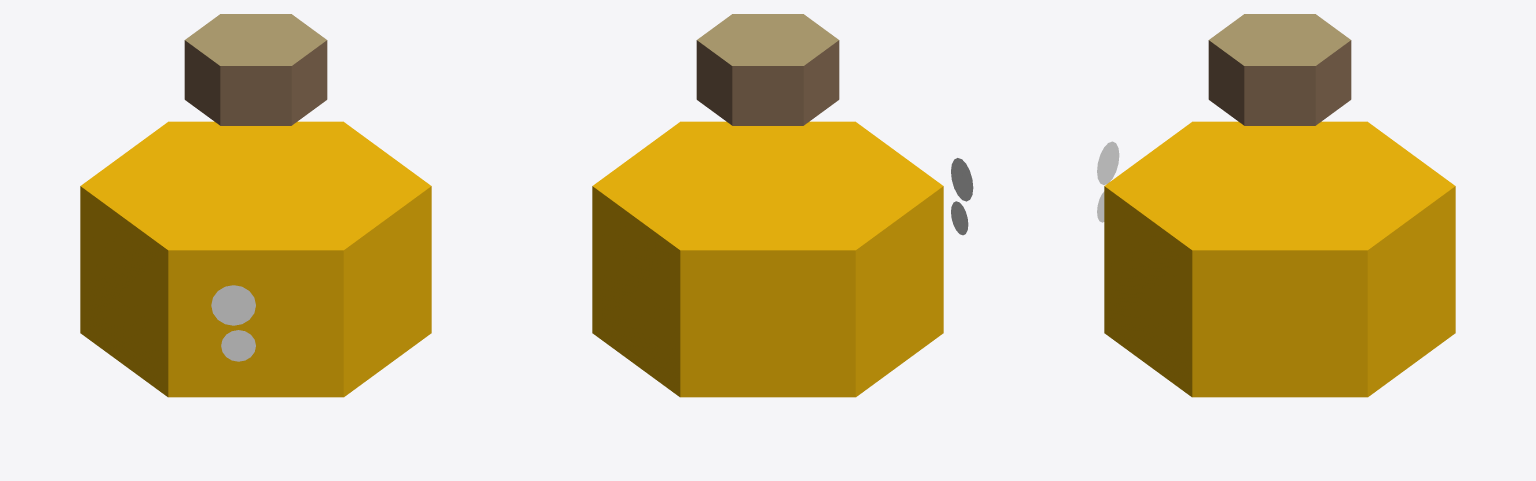
The model's file is Item_Potion@Turn.FBX.
The picture shows the model from 3 angles, left to right: view 1: azimuth 30°, elevation 25°; view 2: azimuth 150°, elevation 25°; view 3: azimuth 270°, elevation 25°; orthographic projection.
Parts seen in each view (by area): view 1: Item_Potion; view 2: Item_Potion; view 3: Item_Potion.
Boxes of the visible parts, <box> form: Item_Potion: <box>80,14,431,397</box>; Item_Potion: <box>592,14,973,397</box>; Item_Potion: <box>1097,14,1455,397</box>.
Bounding box in the file's own units: 4.24 × 3.78 × 4.9.
